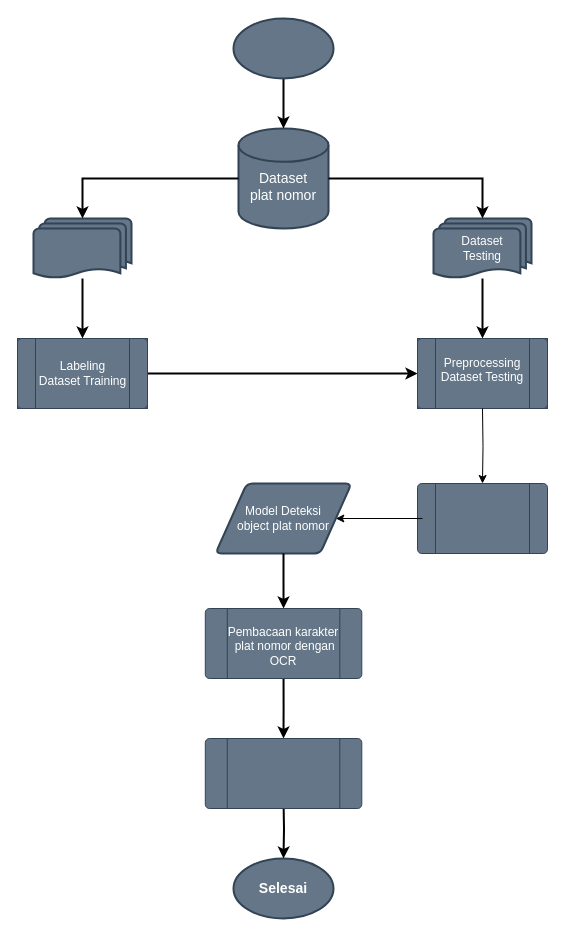
Image size: 565x936. Some labels were removed from this diagram. Each missing label, with the box of its shape:
Dataset Training: (32, 217, 132, 279)
Integrasi pada sistem berbasis website: (204, 738, 362, 808)
Mulai: (232, 17, 334, 79)
Training Dataset dengan CNN: (416, 482, 548, 554)
